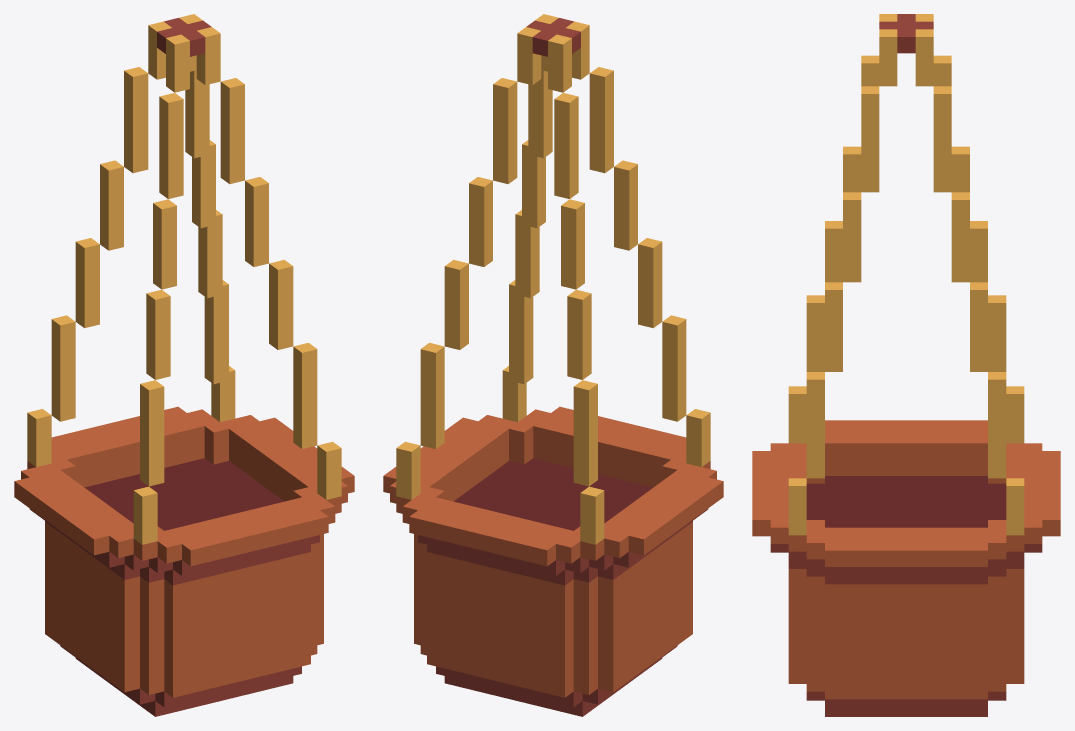
File: VoxelHangingPot.glb
3 views of the same model, side by side, from view 1: azimuth 30°, elevation 25°; view 2: azimuth 150°, elevation 25°; view 3: azimuth 270°, elevation 25° (orthographic). The views are drawn at different scales.
Parts seen in each view (by area): view 1: Hanging_Pot; view 2: Hanging_Pot; view 3: Hanging_Pot.
Boxes of the visible parts, x1=… form: Hanging_Pot: x1=14, y1=14, x2=354, y2=716; Hanging_Pot: x1=383, y1=14, x2=723, y2=716; Hanging_Pot: x1=752, y1=14, x2=1060, y2=716.
Bounding box in the file's own units: 0.17 × 0.4 × 0.17.
Materials: 1 (1 with a texture image).
